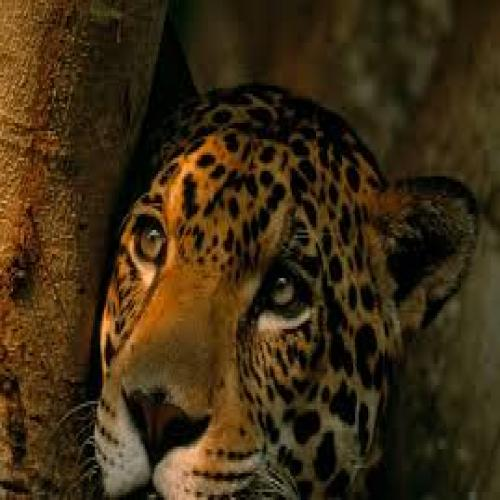jaguar_not-endangered: (102, 91, 424, 500)
